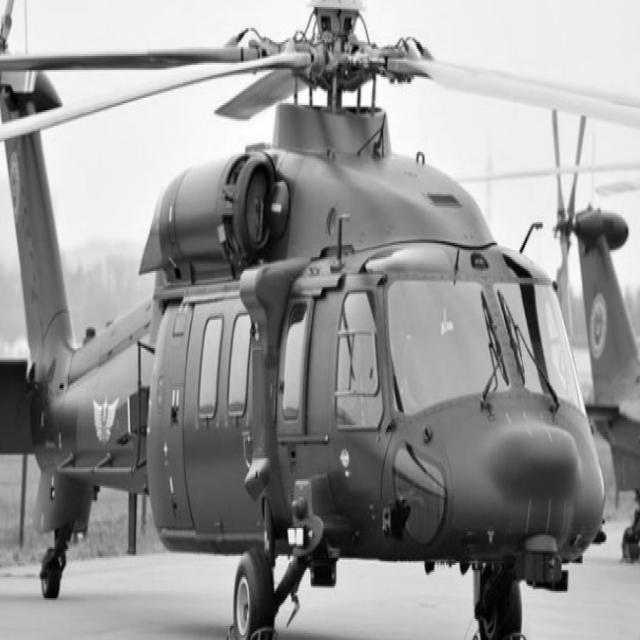helicopter: (1, 1, 608, 640)
